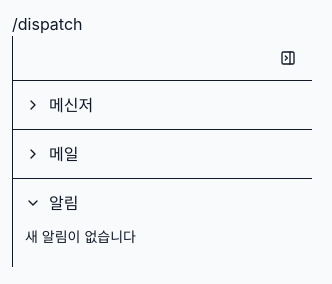
Test: CommsRail › section list states › shows the mail load-failed state when the threads request has no body
This screenshot has width=332, height=284.
What coordinates should you click on to do the following:
click the button "메일"
I would click on:
 (33, 154)
Its box is [25,130,300,178].
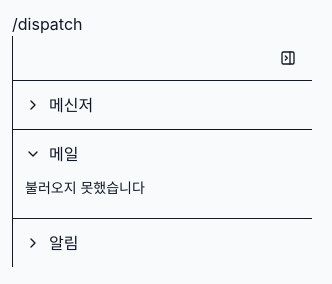
Now the message reads "불러오지 못했습니다", box [25,179,145,196]
